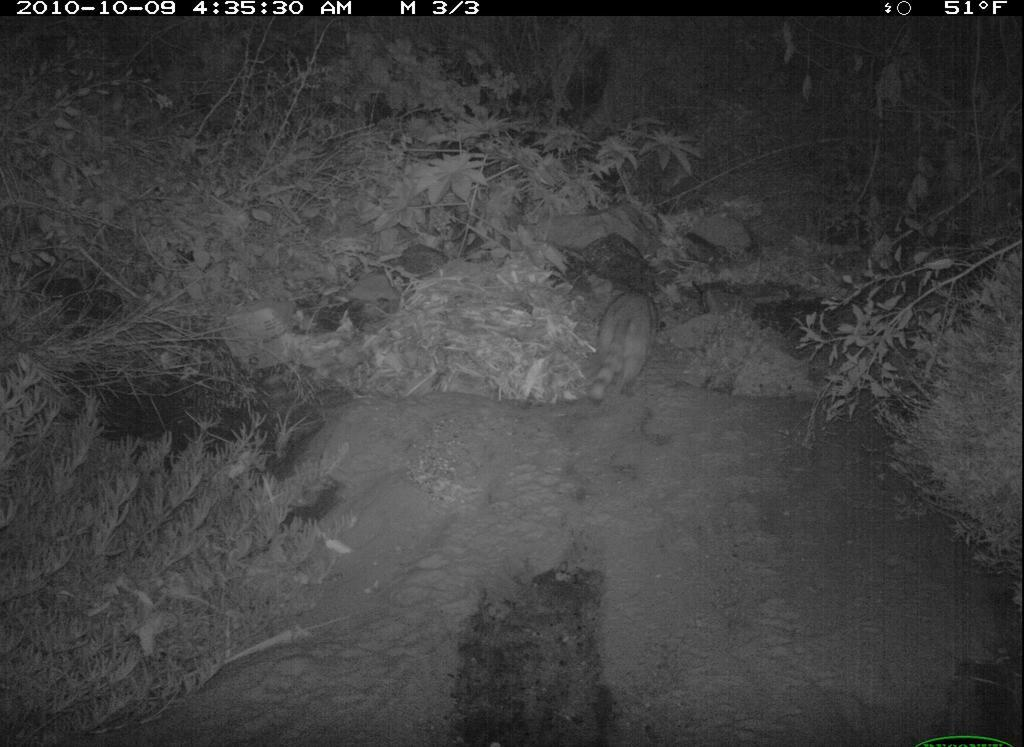opossum: (582, 277, 671, 405)
